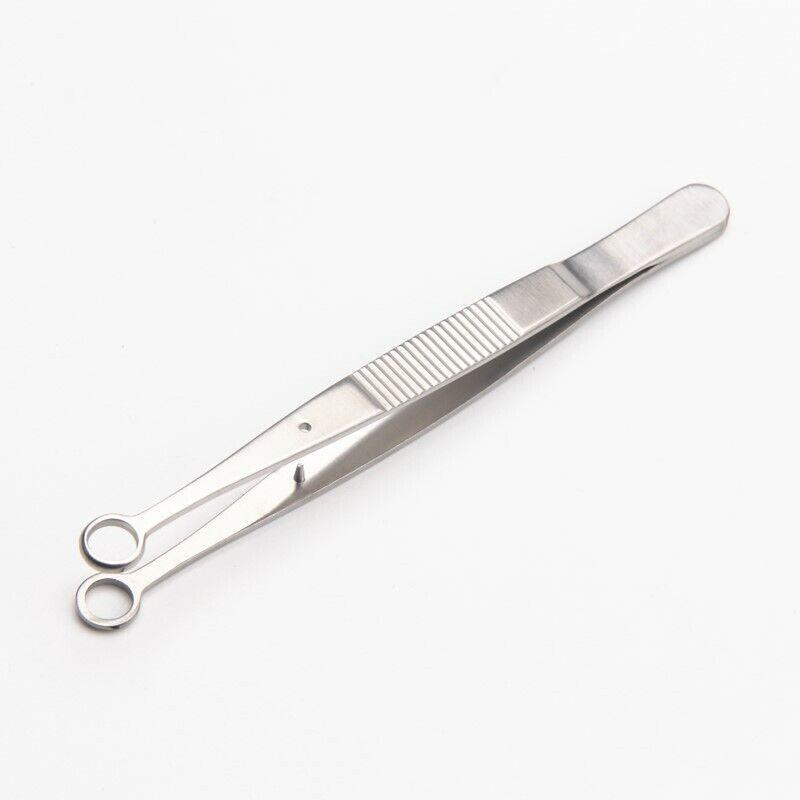Eye Intestinal Forceps: (64, 166, 741, 650)
